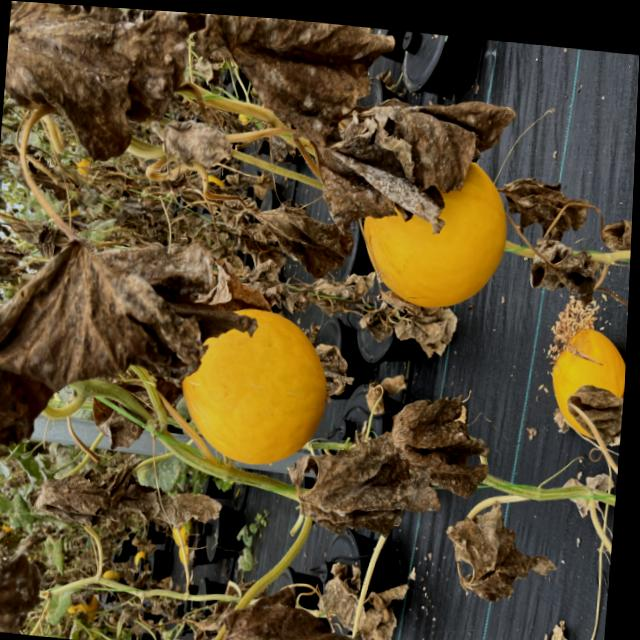bacterial wilt: (303, 73, 522, 258), (180, 12, 393, 185), (293, 419, 416, 562), (441, 496, 545, 632), (381, 379, 483, 509), (248, 187, 361, 295), (198, 586, 368, 640), (501, 179, 591, 233), (524, 245, 596, 306)
